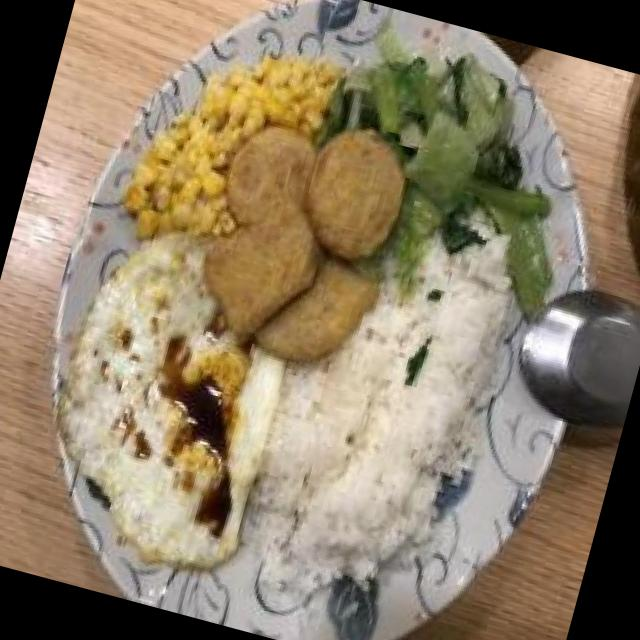chicken_nuggets: (184, 96, 420, 377)
fried_eggs: (23, 212, 314, 584)
rice: (232, 264, 510, 621)
